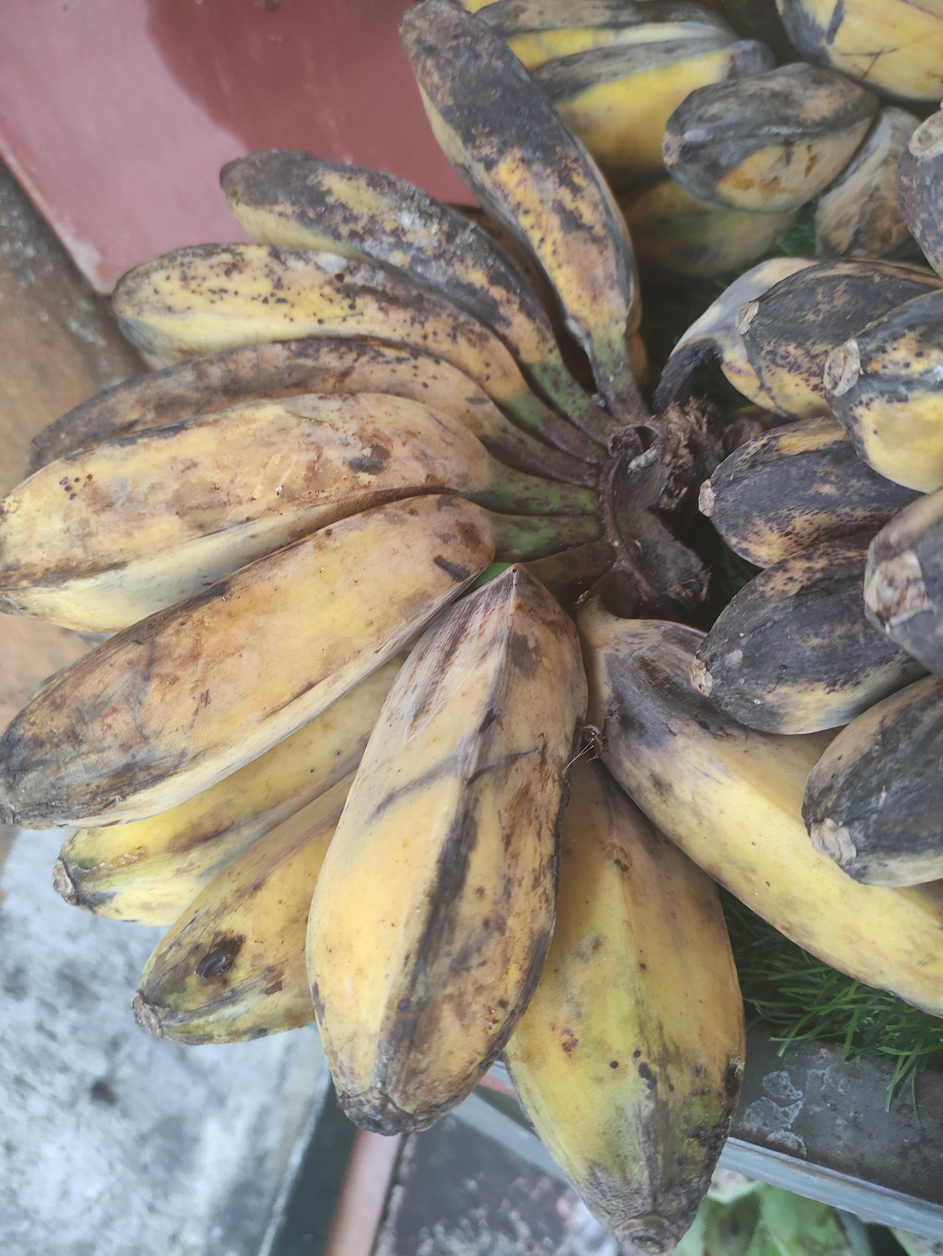overripe: (691, 260, 943, 887)
ripe: (0, 0, 943, 1256), (464, 0, 920, 280)
